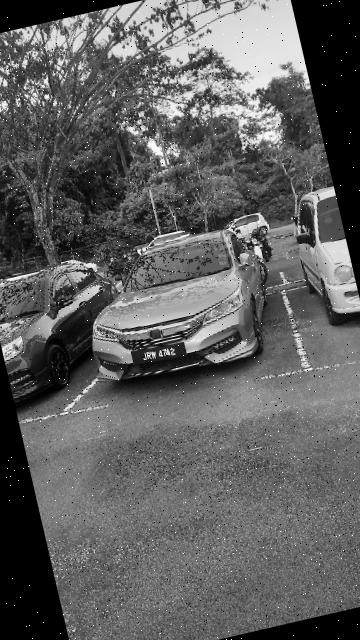License_Plate: (130, 337, 191, 370)
car: (71, 225, 279, 396)
